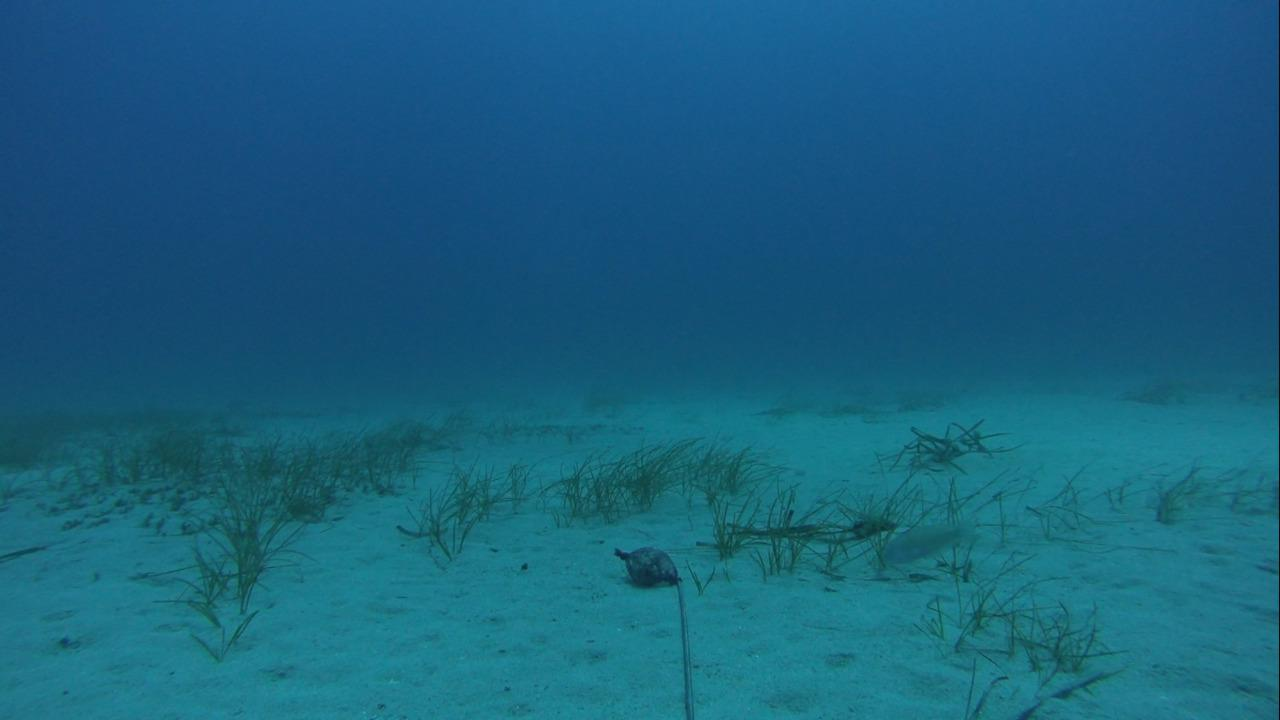raor: (880, 515, 976, 568)
